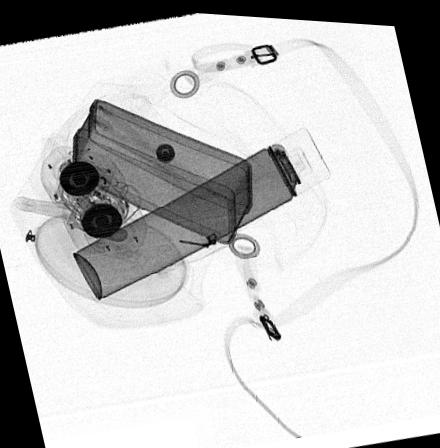Sprayer: (72, 121, 329, 298)
